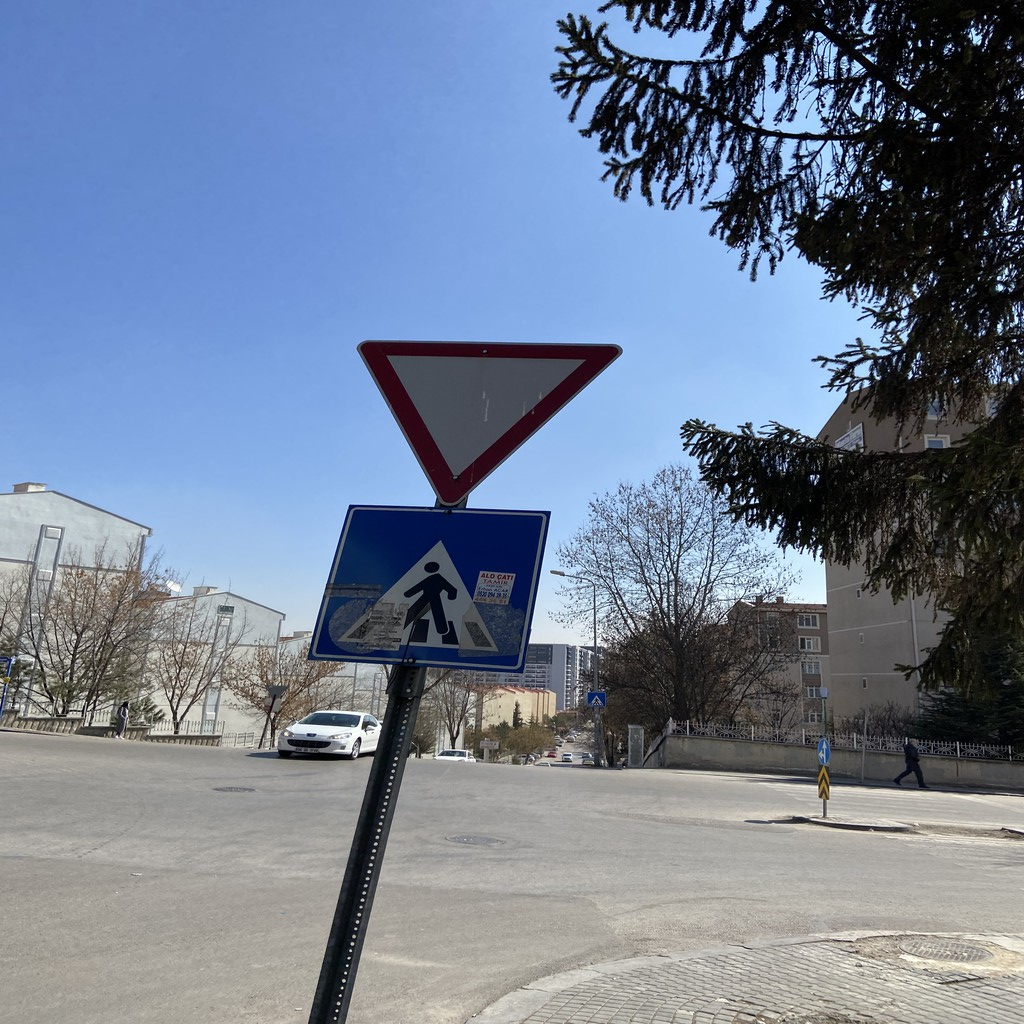Yaya Gecidi: (342, 507, 535, 671)
Yol Ver: (359, 326, 623, 494)
